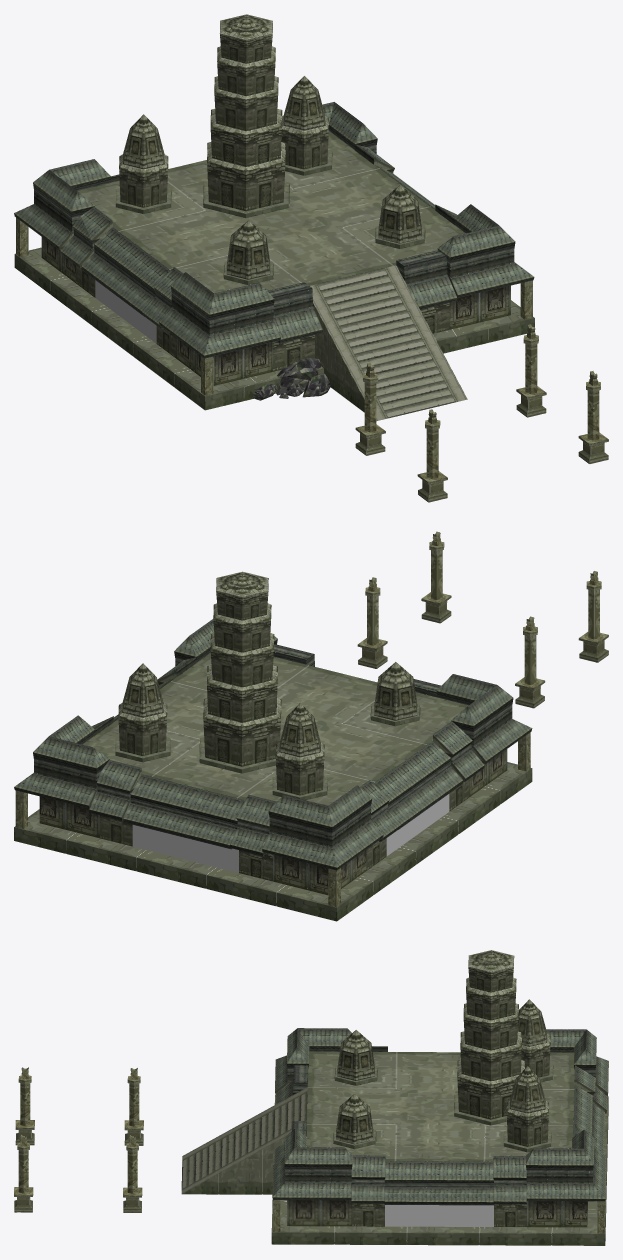
File: MiniTemple (1).fbx
3 views of the same model, one above another, from view 1: azimuth 30°, elevation 25°; view 2: azimuth 150°, elevation 25°; view 3: azimuth 270°, elevation 25° (orthographic). The views are drawn at different scales.
Parts seen in each view (by area): view 1: Element Client-33bbc2d0.obj; view 2: Element Client-33bbc2d0.obj; view 3: Element Client-33bbc2d0.obj.
Boxes of the visible parts, box(x1,y1,x2,y2) form: Element Client-33bbc2d0.obj: box(14, 14, 608, 502); Element Client-33bbc2d0.obj: box(14, 531, 608, 921); Element Client-33bbc2d0.obj: box(14, 950, 608, 1245).
Bounding box in the file's own units: 735 × 546 × 1325.
